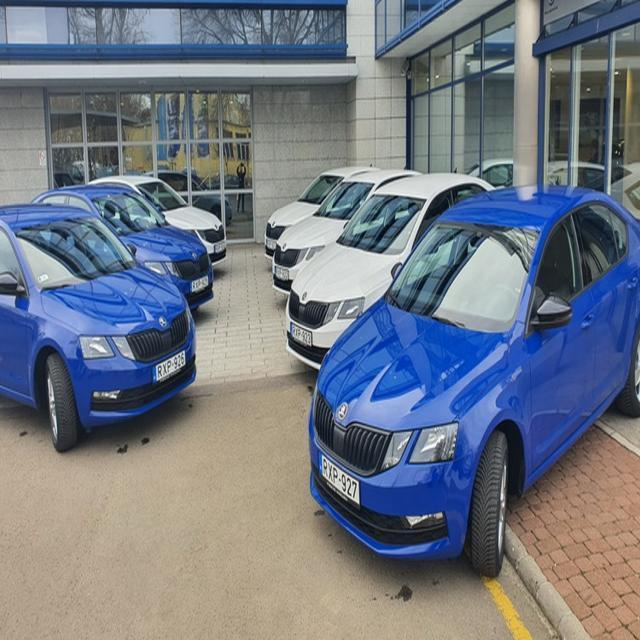licence: (320, 452, 362, 506), (155, 343, 188, 389)
